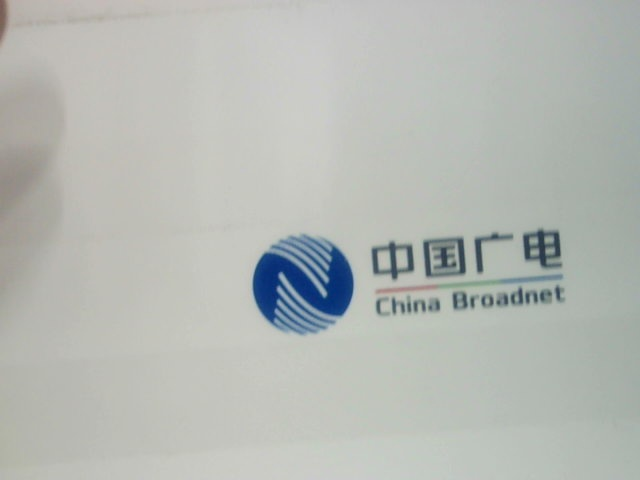AW_ChinaBroadNet: (238, 219, 578, 340)
